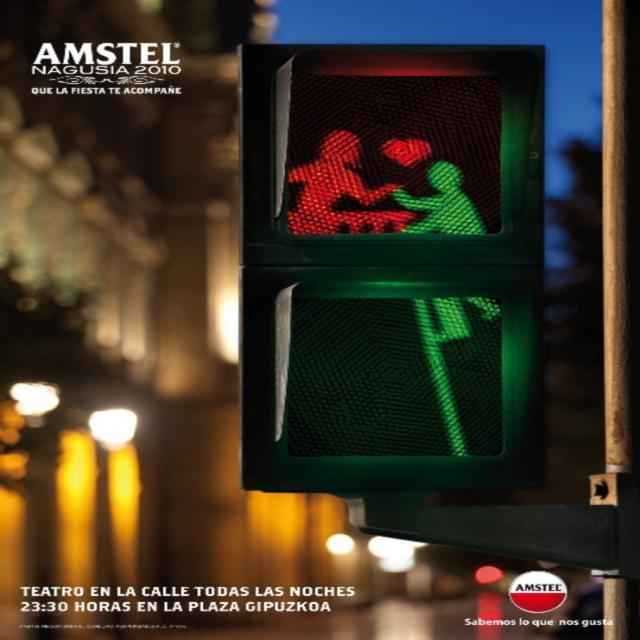traffic light: (238, 42, 532, 488)
